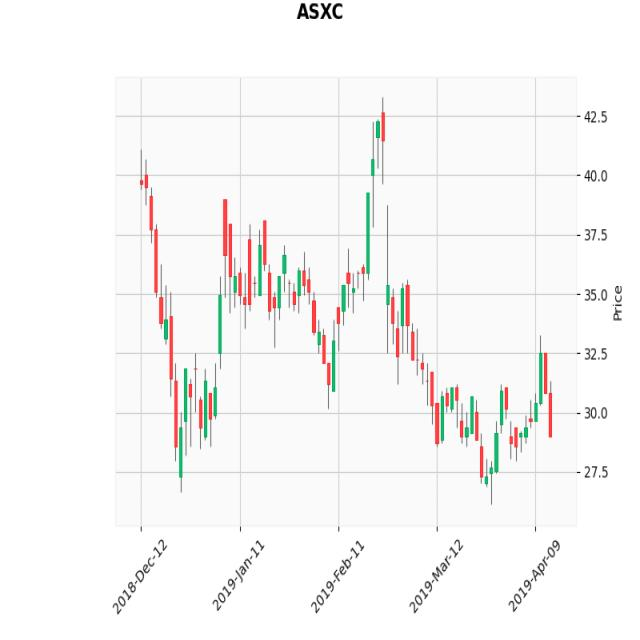Inverse-Head-Shoulders: (414, 342, 554, 494)
